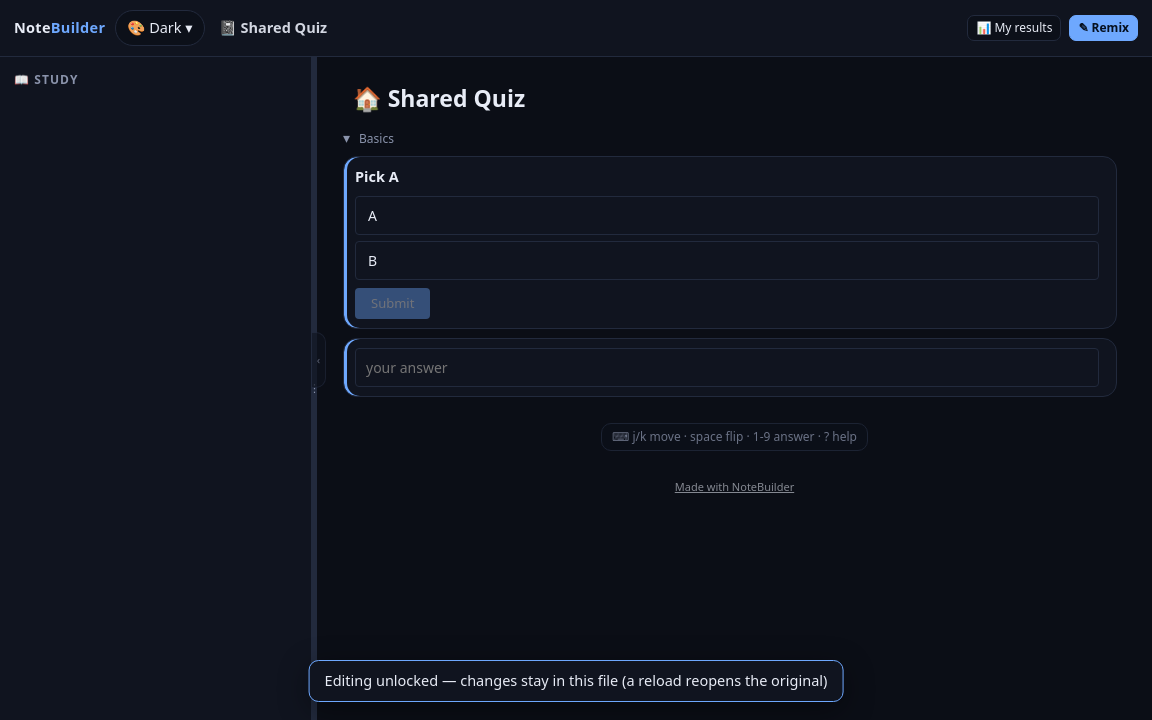
Test: Reader — remembers a student’s progress › shows the note when a save fails mid-session
The width and height of the screenshot is (1152, 720).
In the field with placeholder "your answer": coordinates (727, 368) x1=355 y1=348 x2=1099 y2=387, type "x"
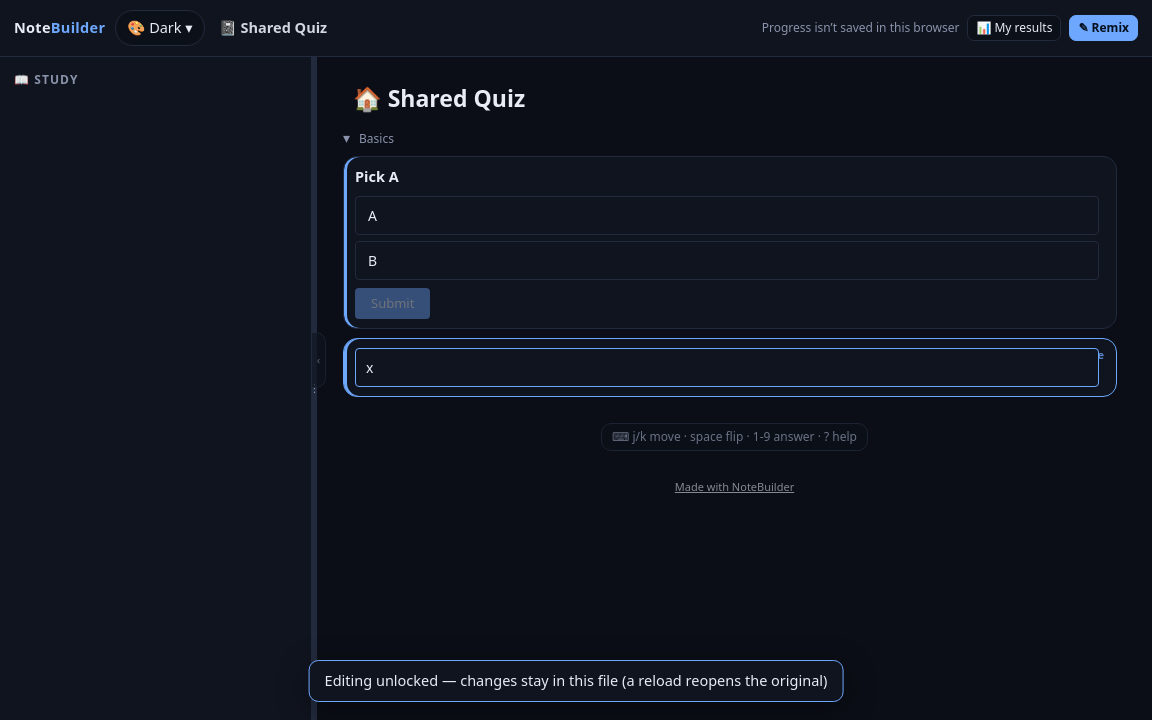
Check: the text "Progress isn’t saved in this browser" is shown, box x1=762 y1=19 x2=959 y2=37
